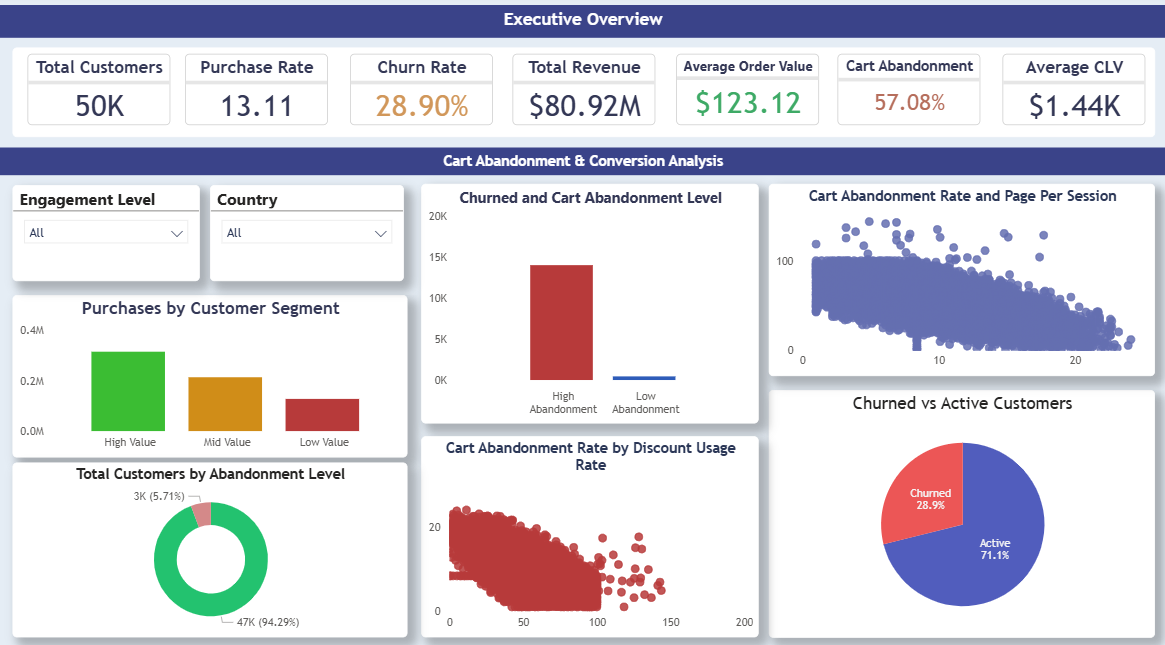

The page's visual inventory and layout, read from the dashboard file:
{"tool":"powerbi","page":{"name":"Cart Abandonment & Conversion","canvas":[1280,720],"ordinal":3},"visuals":[{"type":"textbox","box":[0,11,1280.3,35.7],"z":0},{"type":"textbox","box":[0,167.4,1280.3,30.2],"z":1000},{"type":"textbox","box":[13.7,57.6,1254.2,98.8],"z":2000},{"type":"card","title":"Purchase Rate","fields":{"Values":["ecommerce_kpi_data.Purchase Rate %"]},"box":[203.1,64.5,156.4,78.2],"z":3000},{"type":"card","title":"Total Customers","fields":{"Values":["ecommerce_kpi_data.Total Customers"]},"box":[30.2,64.5,156.4,78.2],"z":4000},{"type":"card","title":"Churn Rate","fields":{"Values":["ecommerce_kpi_data.Churn Rate"]},"box":[384.2,64.5,156.4,78.2],"z":5000},{"type":"card","title":"Cart Abandonment","fields":{"Values":["ecommerce_kpi_data.Average Cart Abandonment Rate"]},"box":[919.4,64.5,156.4,78.2],"z":6000},{"type":"card","title":"Total Revenue","fields":{"Values":["Sum(ecommerce_kpi_data.Revenue)"]},"box":[562.6,64.5,156.4,78.2],"z":7000},{"type":"card","title":"Average Order Value","fields":{"Values":["Avg(ecommerce_kpi_data.Average_Order_Value)"]},"box":[742.4,64.5,156.4,78.2],"z":8000},{"type":"card","title":"Average CLV","fields":{"Values":["Avg(ecommerce_kpi_data.Lifetime_Value)"]},"box":[1100.5,64.5,156.4,78.2],"z":9000},{"type":"columnChart","title":"Purchases by Customer Segment","fields":{"Category":["ecommerce_kpi_data.customer_segment"],"Y":["Sum(ecommerce_kpi_data.Total_Purchases)"]},"box":[13.7,329.3,433.6,178.4],"z":10000},{"type":"pieChart","title":"Churned vs Active Customers","fields":{"Category":["ecommerce_kpi_data.Churn_Status"],"Y":["ecommerce_kpi_data.Total Customers"]},"box":[843.9,433.6,424,271.7],"z":11000},{"type":"columnChart","title":"Churned and Cart Abandonment Level","fields":{"Category":["ecommerce_kpi_data.Abandonment_Level"],"Y":["Sum(ecommerce_kpi_data.Churned)"]},"box":[462.4,207.2,370.5,263.5],"z":12000},{"type":"scatterChart","title":"Cart Abandonment Rate by Discount Usage Rate","fields":{"X":["ecommerce_kpi_data.Cart_Abandonment_Rate"],"Y":["ecommerce_kpi_data.Pages_Per_Session"]},"box":[462.4,484.4,370.5,220.9],"z":13000},{"type":"donutChart","title":"Total Customers by Abandonment Level","fields":{"Y":["ecommerce_kpi_data.Total Customers"],"Category":["ecommerce_kpi_data.Abandonment_Level"]},"box":[13.7,513.2,433.6,192.1],"z":14000},{"type":"scatterChart","title":"Cart Abandonment Rate and Page Per Session","fields":{"X":["ecommerce_kpi_data.Pages_Per_Session"],"Y":["ecommerce_kpi_data.Cart_Abandonment_Rate"]},"box":[843.9,207.2,424,211.3],"z":15000},{"type":"slicer","title":"Engagement Level","fields":{"Values":["ecommerce_kpi_data.Engagement_Level"]},"box":[13.7,208.6,205.8,105.7],"z":15001},{"type":"slicer","title":"Country","fields":{"Values":["ecommerce_kpi_data.Country"]},"box":[230.5,208.6,212.7,105.7],"z":15002}]}

Visuals, with their boxes in screenshot pixels (x1, y1, x2, y2), scaled from the page's 1280x720 canvas onto the 1165x645 screenshot:
textbox: BBox(0, 10, 1164, 42)
textbox: BBox(0, 150, 1164, 177)
textbox: BBox(12, 52, 1154, 140)
"Purchase Rate" card: BBox(185, 58, 327, 128)
"Total Customers" card: BBox(27, 58, 170, 128)
"Churn Rate" card: BBox(350, 58, 492, 128)
"Cart Abandonment" card: BBox(837, 58, 979, 128)
"Total Revenue" card: BBox(512, 58, 654, 128)
"Average Order Value" card: BBox(676, 58, 818, 128)
"Average CLV" card: BBox(1002, 58, 1144, 128)
"Purchases by Customer Segment" columnChart: BBox(12, 295, 407, 455)
"Churned vs Active Customers" pieChart: BBox(768, 388, 1154, 632)
"Churned and Cart Abandonment Level" columnChart: BBox(421, 186, 758, 422)
"Cart Abandonment Rate by Discount Usage Rate" scatterChart: BBox(421, 434, 758, 632)
"Total Customers by Abandonment Level" donutChart: BBox(12, 460, 407, 632)
"Cart Abandonment Rate and Page Per Session" scatterChart: BBox(768, 186, 1154, 375)
"Engagement Level" slicer: BBox(12, 187, 200, 282)
"Country" slicer: BBox(210, 187, 403, 282)
